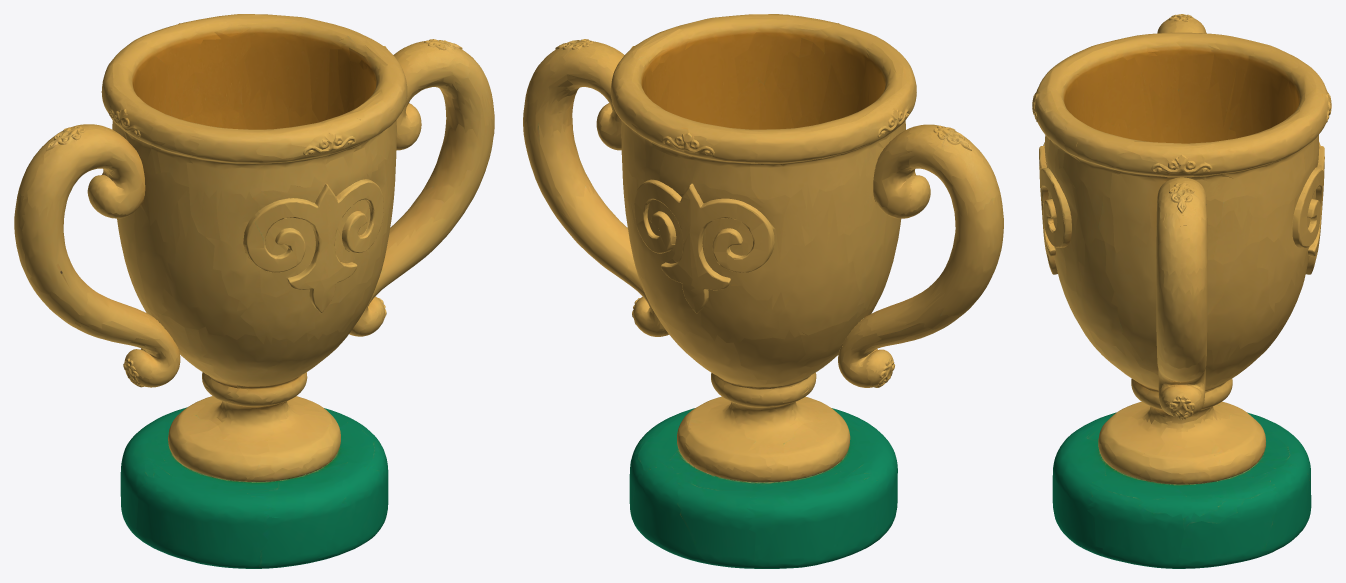
File: cup.glb
3 views of the same model, side by side, from view 1: azimuth 30°, elevation 25°; view 2: azimuth 150°, elevation 25°; view 3: azimuth 270°, elevation 25° (orthographic). The views are drawn at different scales.
Parts seen in each view (by area): view 1: output_unwrapped; view 2: output_unwrapped; view 3: output_unwrapped.
Part boxes in pixels (bbox=[...]): output_unwrapped: bbox=[14, 14, 494, 568]; output_unwrapped: bbox=[523, 14, 1003, 568]; output_unwrapped: bbox=[1032, 14, 1331, 568].
Bounding box in the file's own units: 2 × 1.79 × 1.14.
1 material, 1 textured.
